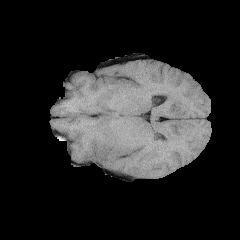glioma: (64, 113, 125, 163)
